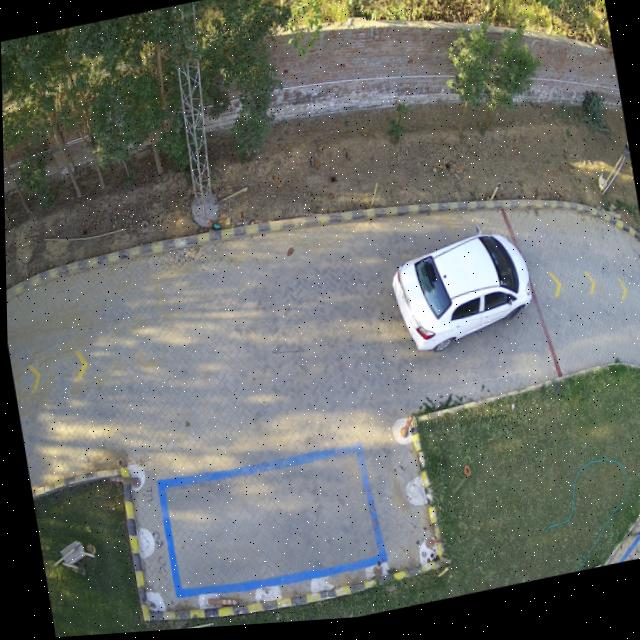car: (390, 239, 530, 359)
